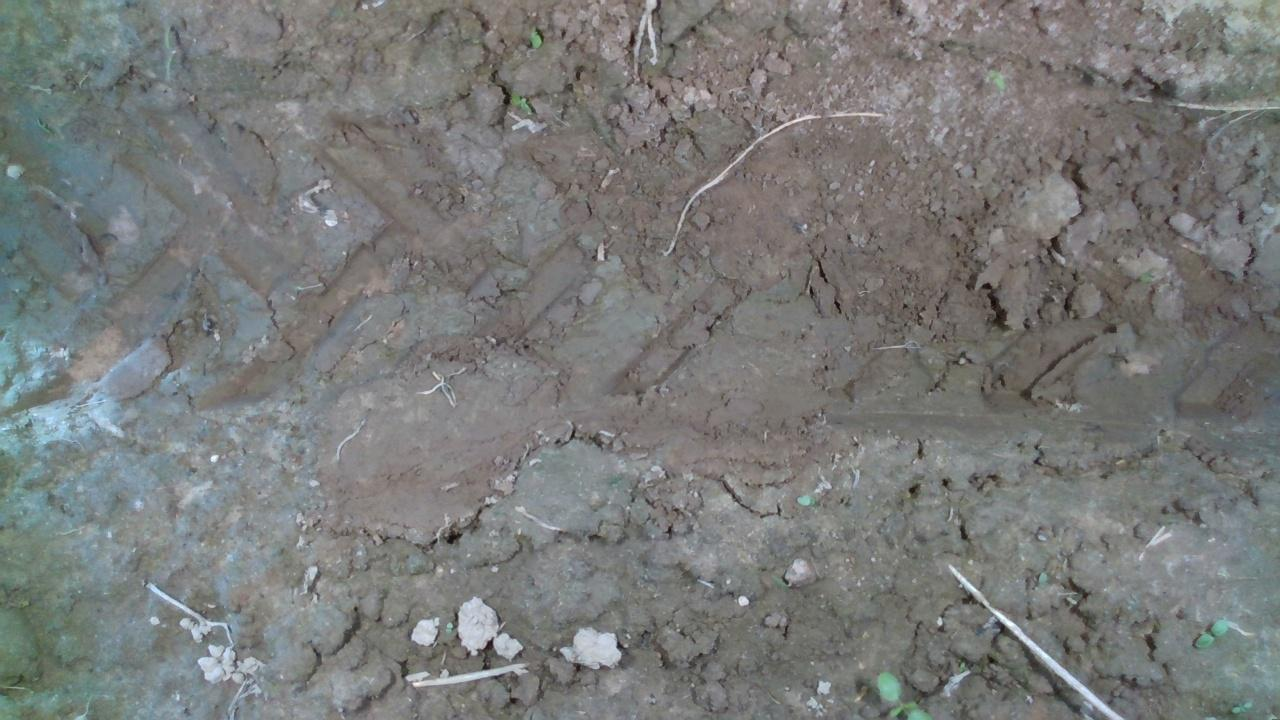weed: (1192, 616, 1228, 650), (510, 90, 531, 115), (792, 492, 816, 508), (526, 25, 541, 48)
